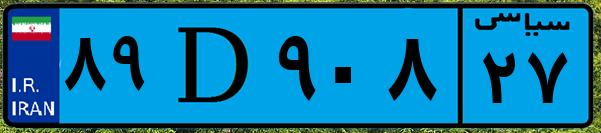0: (330, 28, 385, 110)
2: (475, 38, 525, 113)
7: (525, 38, 570, 115)
8: (385, 28, 445, 110), (57, 26, 110, 100)
9: (270, 28, 330, 110), (110, 28, 158, 98)
D: (158, 12, 270, 120)
